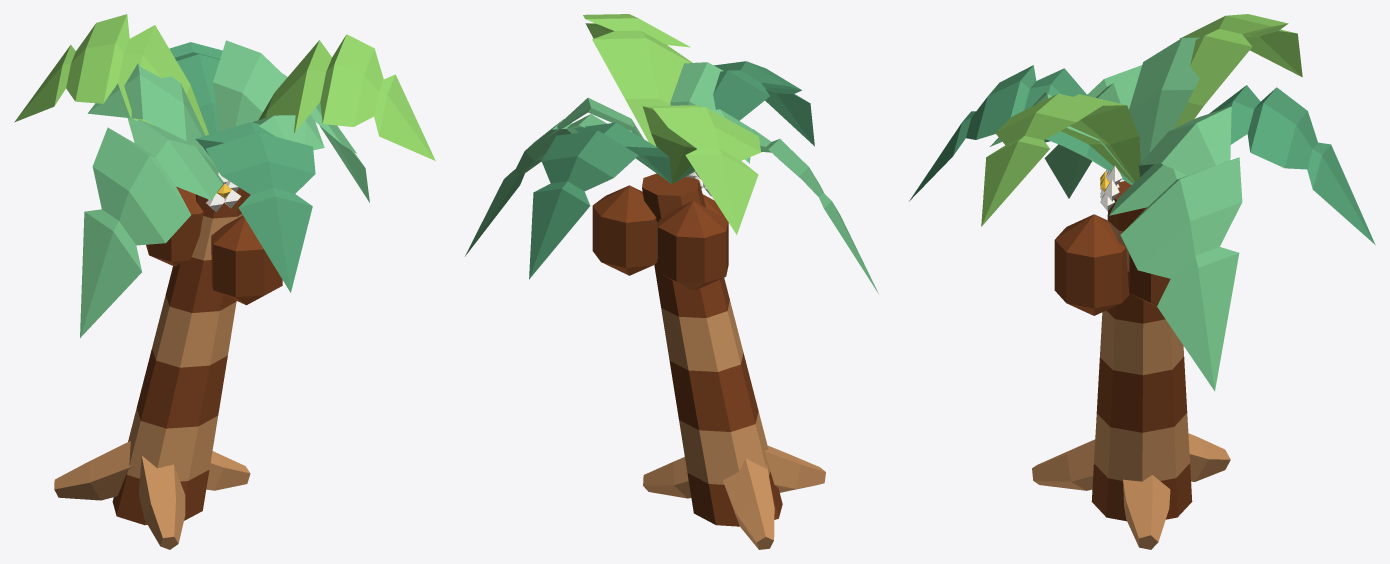
The model's file is 16-coconut-palm.glb.
3 views of the same model, side by side, from view 1: azimuth 30°, elevation 25°; view 2: azimuth 150°, elevation 25°; view 3: azimuth 270°, elevation 25° (orthographic). The views are drawn at different scales.
Visible parts, largest first — view 1: 16-coconut-palm_Body; view 2: 16-coconut-palm_Body; view 3: 16-coconut-palm_Body.
Boxes of the visible parts, box(x1,y1,x2,y2) form: 16-coconut-palm_Body: box(14, 14, 435, 549); 16-coconut-palm_Body: box(465, 14, 878, 549); 16-coconut-palm_Body: box(909, 14, 1375, 549).
Bounding box in the file's own units: 0.7312 × 0.8717 × 0.7504.
Materials: 1 (1 with a texture image).
